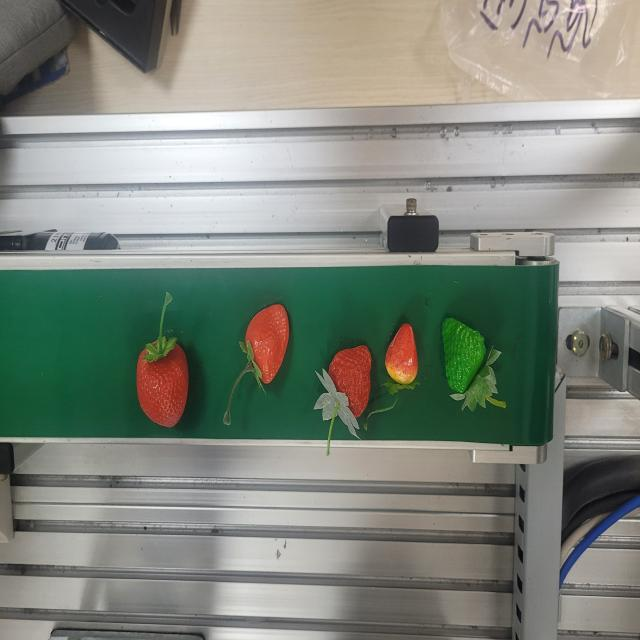Large Ripe Strawberry: (134, 289, 191, 430)
Small Ripe Strawberry: (240, 299, 293, 391), (322, 343, 375, 426), (384, 316, 419, 400)
Small Unripe Strawberry: (436, 314, 499, 406)
